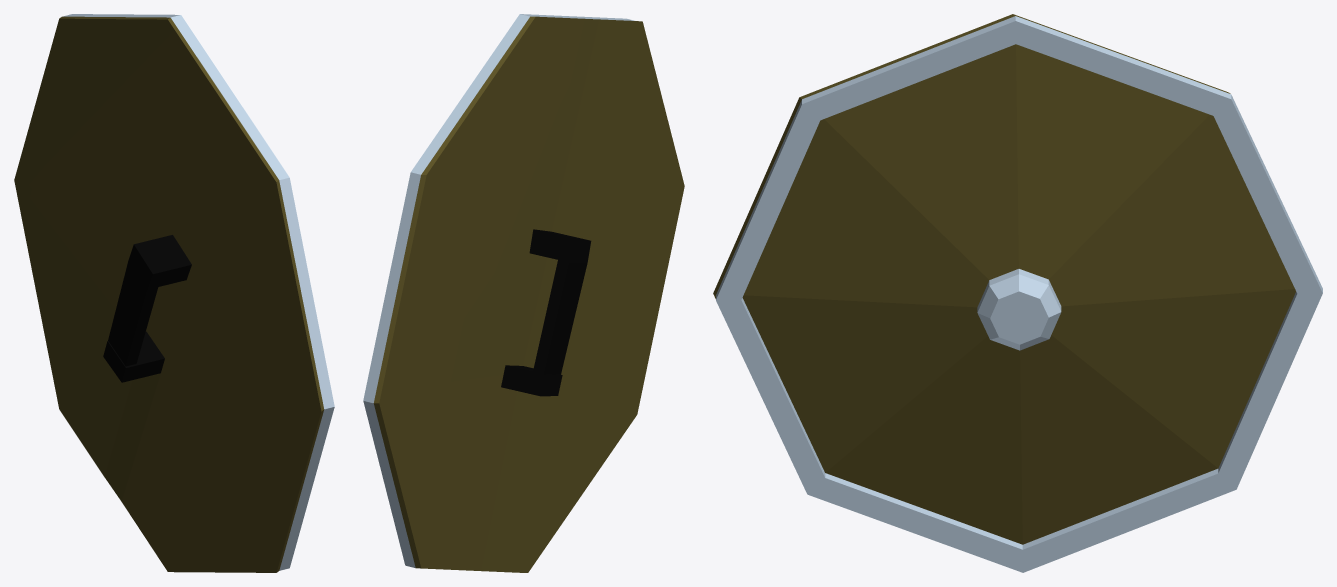
File: round_shield.fbx
3 views of the same model, side by side, from view 1: azimuth 30°, elevation 25°; view 2: azimuth 150°, elevation 25°; view 3: azimuth 270°, elevation 25° (orthographic).
Visible parts, largest first — view 1: Round shield; view 2: Round shield; view 3: Round shield.
Part boxes in pixels (x1=…): Round shield: x1=14, y1=14, x2=334, y2=572; Round shield: x1=363, y1=14, x2=684, y2=572; Round shield: x1=713, y1=14, x2=1322, y2=572.
Bounding box in the file's own units: 85.19 × 464 × 466.
